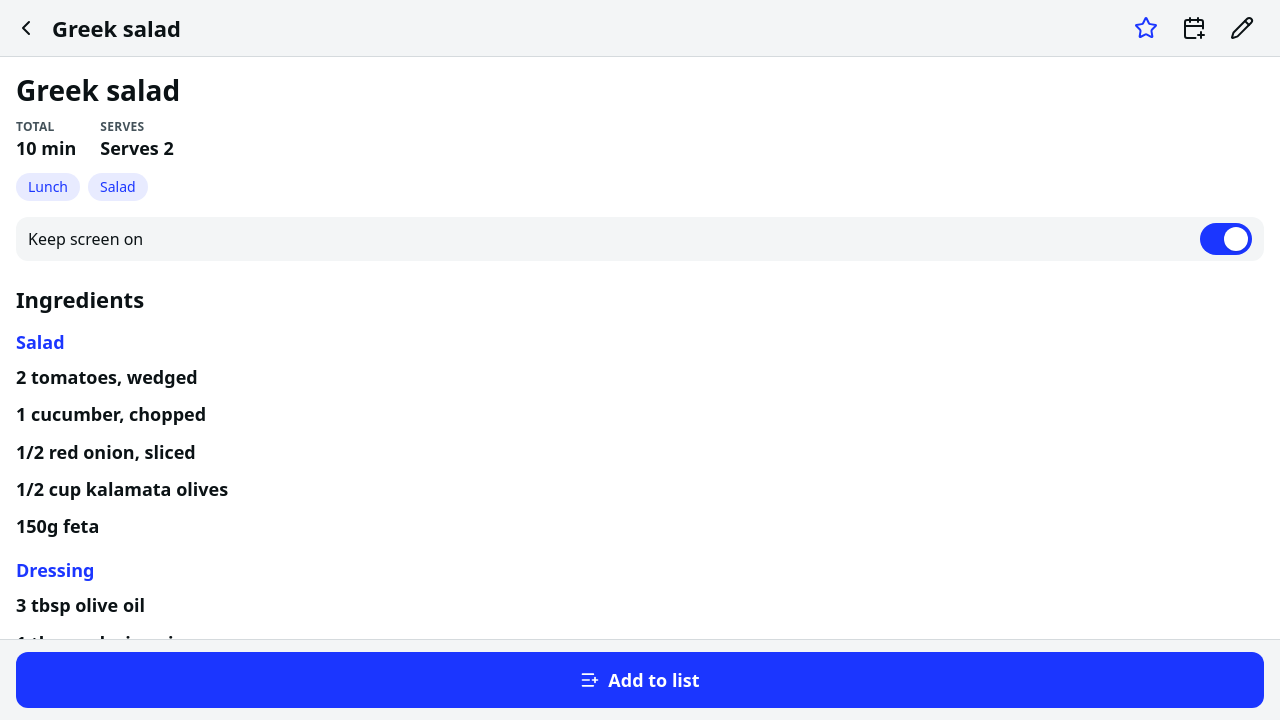
smart Add to list › switches a row to its alternatives or back to text with the chip
The width and height of the screenshot is (1280, 720).
Click the button "Add to list" at (640, 680), box [16, 652, 1264, 708]
(page scrolled)
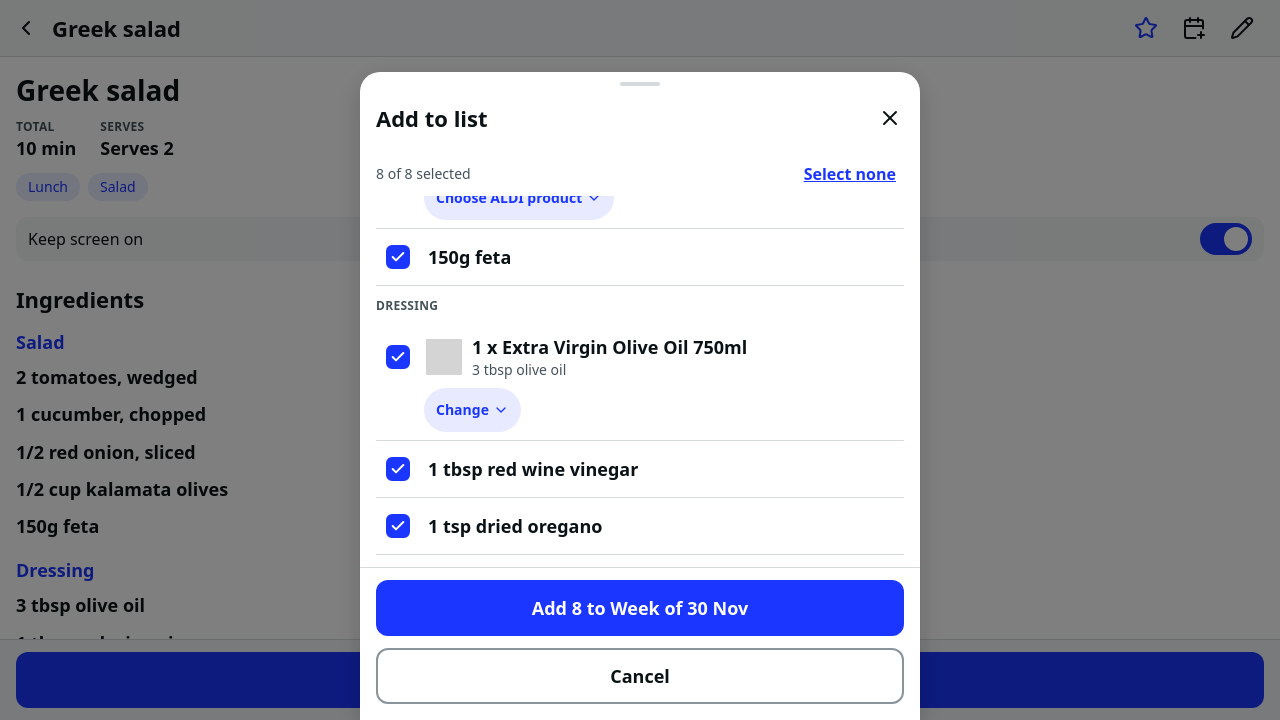
Click the button with aria-label "Change product for 3 tbsp olive oil" at (472, 410), box [424, 388, 521, 432]
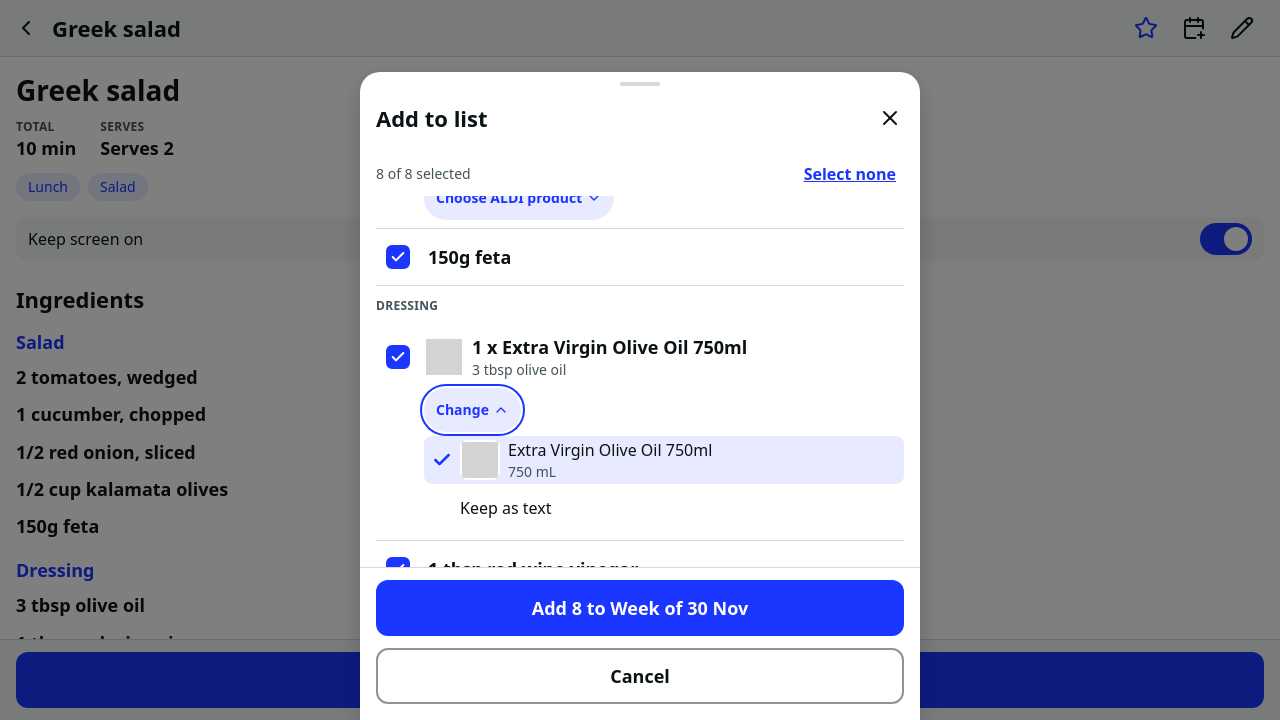
Click the radio button labelled "Keep as text" at (506, 508), box [424, 484, 904, 532]
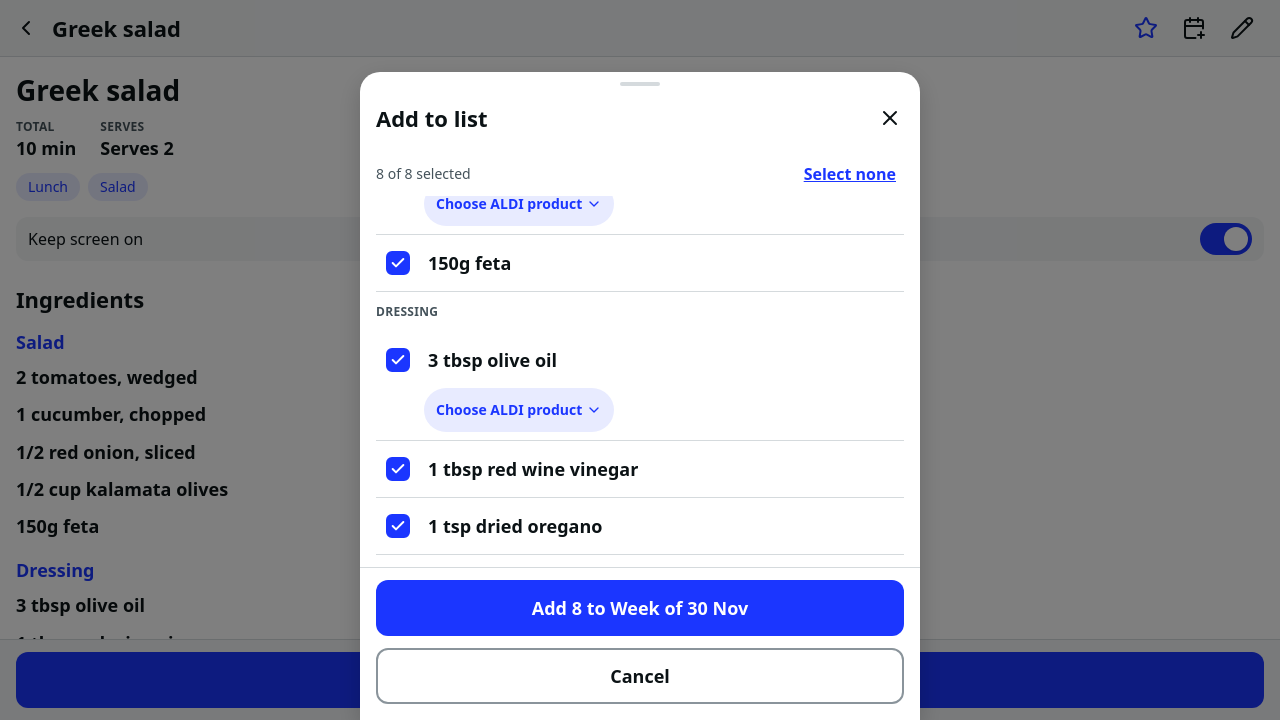
Now the checkbox labelled "3 tbsp olive oil" is shown, box [376, 332, 904, 388]
Click the button with aria-label "Choose ALDI product for 3 tbsp olive oil" at (519, 410), box [424, 388, 614, 432]
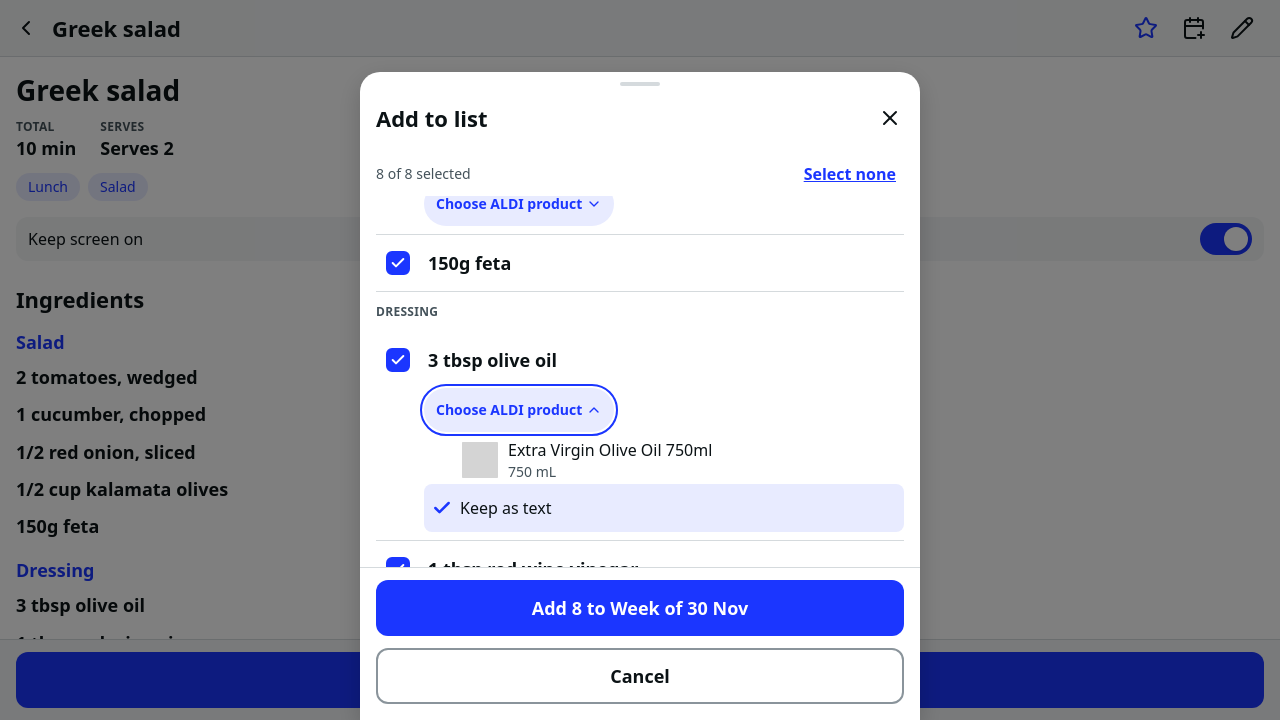
Click the radio button labelled "Extra Virgin Olive Oil 750ml 750 mL" at (664, 460), box [424, 436, 904, 484]
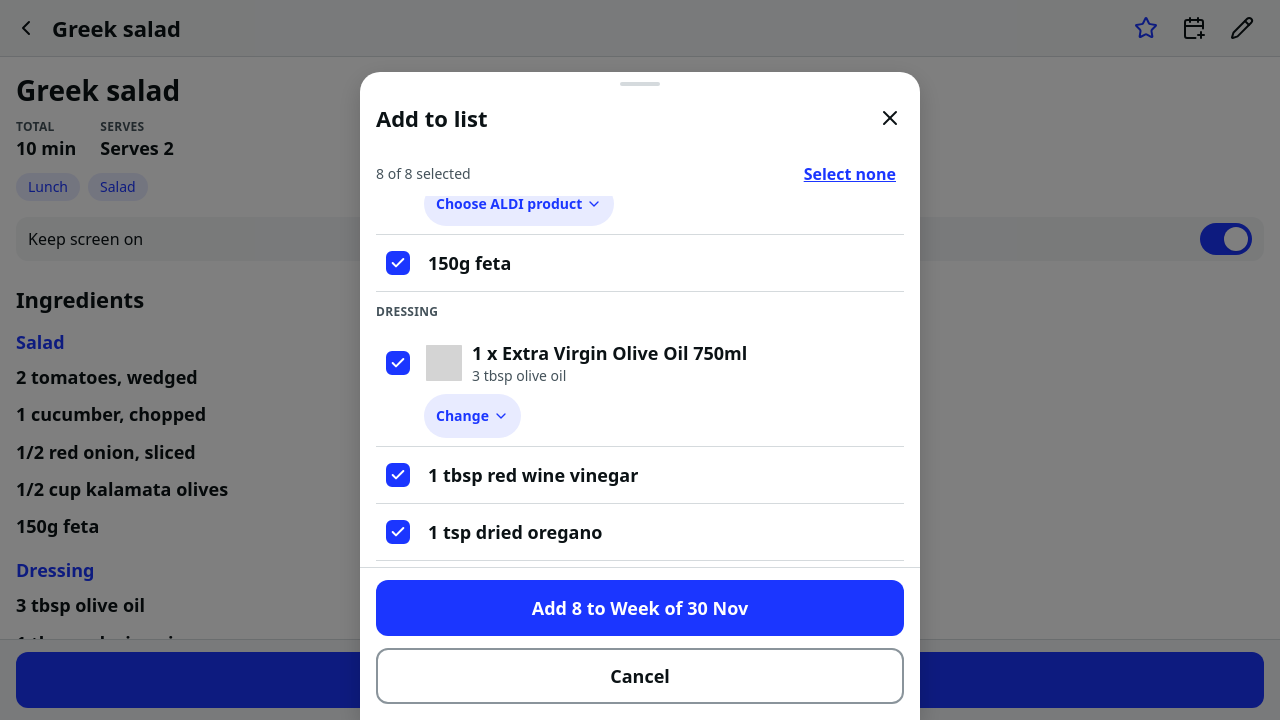
Now the checkbox labelled "1 x Extra Virgin Olive Oil 750ml 3 tbsp olive oil" is shown, box [376, 332, 904, 394]
